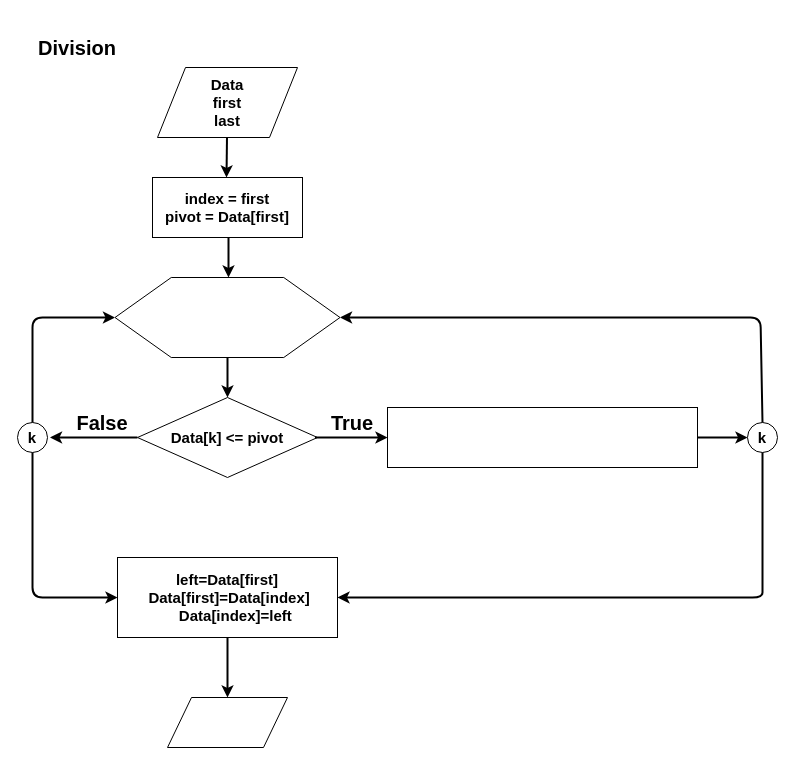
Some shapes in this 795 by 765 pixel diagram are drawn without their labels. Here are the shapes that lost their labels. From the top down, the centre of each, then its label:
At [227,317]: "k in range(first+1, last+1)".
At [542,437]: "index+=1 Data[k], Data [index] = Data [index], Data [k]".
At [227,722]: "index".
